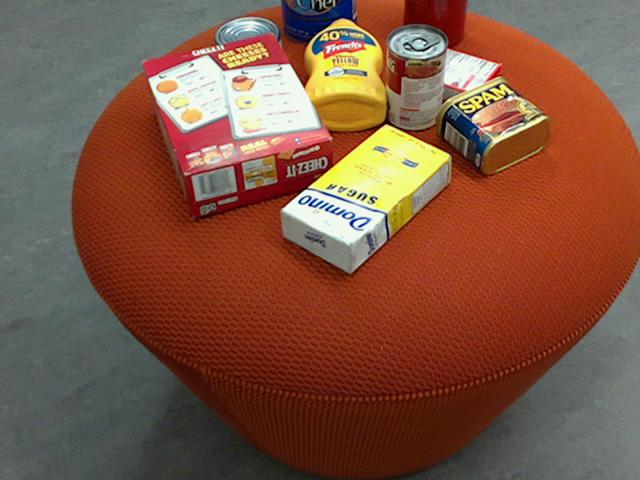cracker_box: (139, 31, 332, 214)
gelatin_box: (411, 46, 501, 110)
large_marker: (420, 0, 441, 41)
master_chef_can: (279, 0, 356, 43)
mug: (401, 0, 466, 48)
mustard_bottle: (302, 18, 385, 130)
potted_meat_can: (433, 76, 549, 174)
sugar_box: (280, 123, 451, 274)
tomato_soup_can: (385, 23, 446, 130)
tuna_fish_can: (212, 17, 280, 72)
